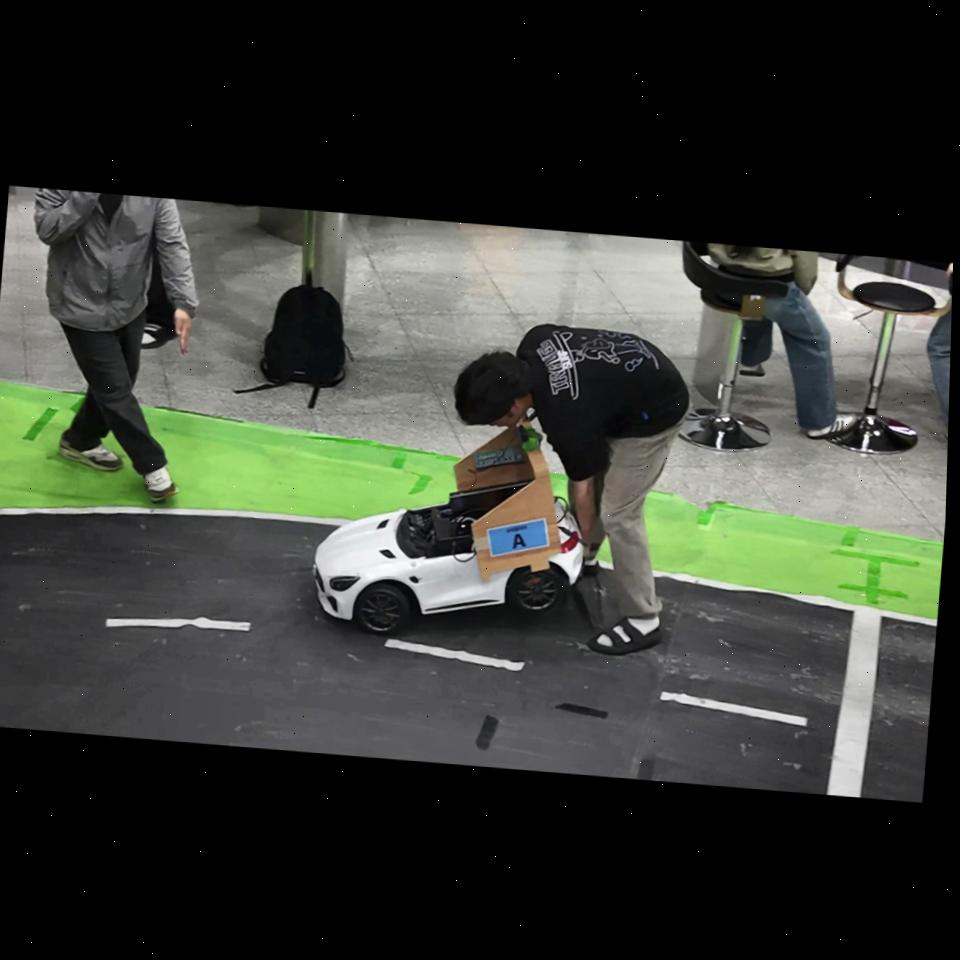broken_line: (660, 691, 807, 727), (385, 639, 525, 671), (105, 617, 250, 631)
